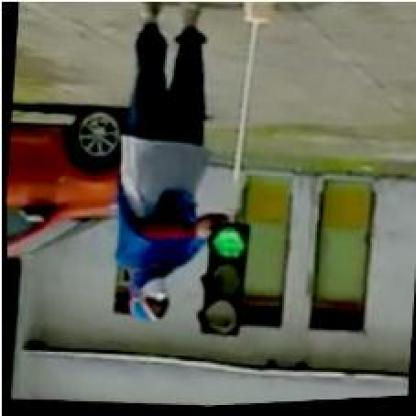green: (199, 223, 248, 341)
